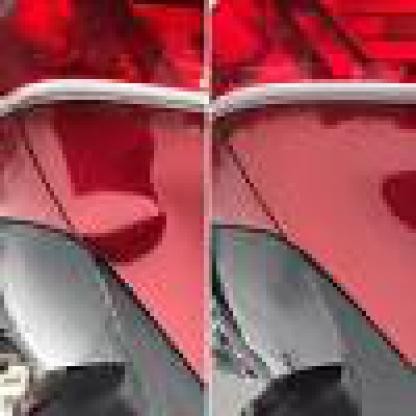dent: (79, 181, 166, 268)
